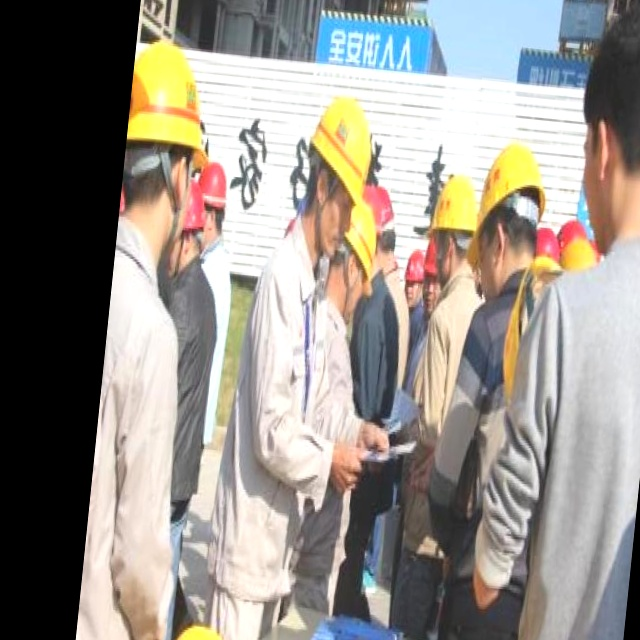Sin_Casco_Mascarrilla: (568, 0, 640, 240)
Sin_Chaleco: (462, 219, 640, 640)
